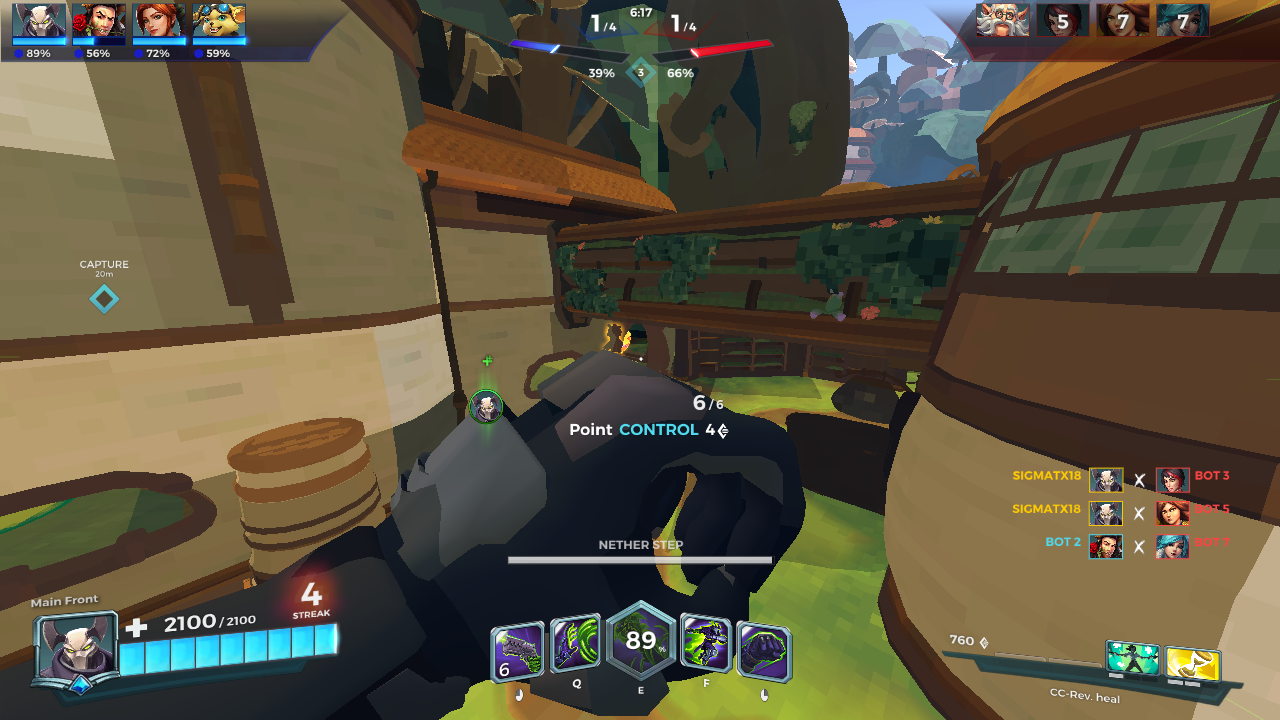model: (601, 323, 623, 356)
